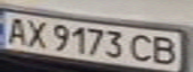1: (66, 24, 87, 55)
3: (103, 28, 130, 60)
7: (84, 26, 106, 57)
9: (48, 21, 72, 53)
A: (0, 15, 30, 46)
B: (148, 34, 181, 66)
C: (127, 32, 160, 63)
X: (21, 17, 51, 50)
